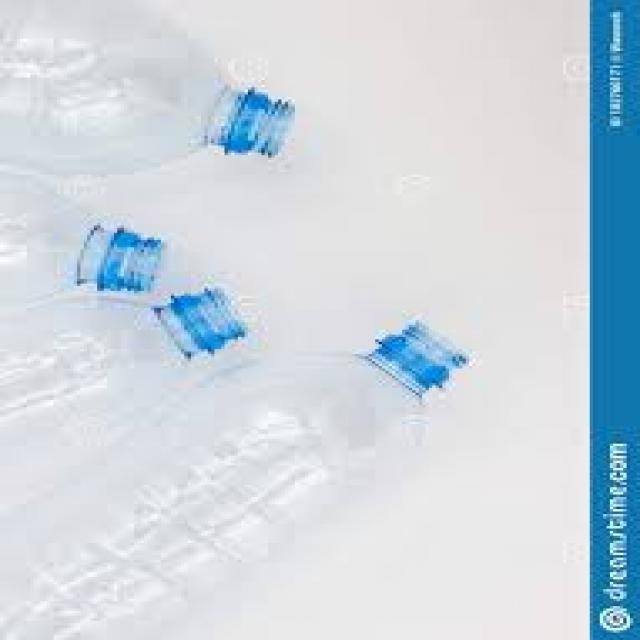Plastic: (0, 321, 469, 640), (0, 0, 305, 177), (0, 285, 245, 465), (0, 174, 168, 316)
